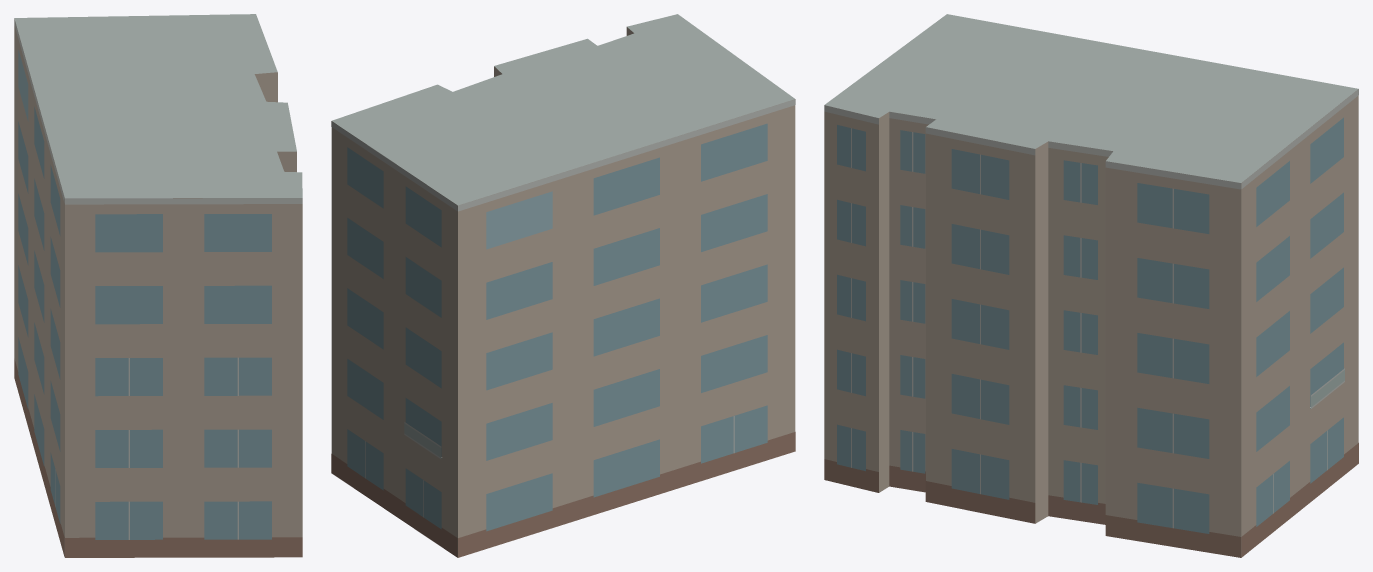
Rendered from survey-upis-32955244.glb.
3 renders of one model, left to right at view 1: azimuth 30°, elevation 25°; view 2: azimuth 150°, elevation 25°; view 3: azimuth 270°, elevation 25°, orthographic. The views are drawn at different scales.
Visible parts, largest first — view 1: survey-upis-32955244.tmp; view 2: survey-upis-32955244.tmp; view 3: survey-upis-32955244.tmp.
Boxes of the visible parts, left/top/right/bottom form: survey-upis-32955244.tmp: left=14, top=14, right=302, bottom=557; survey-upis-32955244.tmp: left=331, top=14, right=795, bottom=557; survey-upis-32955244.tmp: left=824, top=14, right=1358, bottom=557.
Size of the model in its own units: 13.7 by 14.15 by 18.3.
